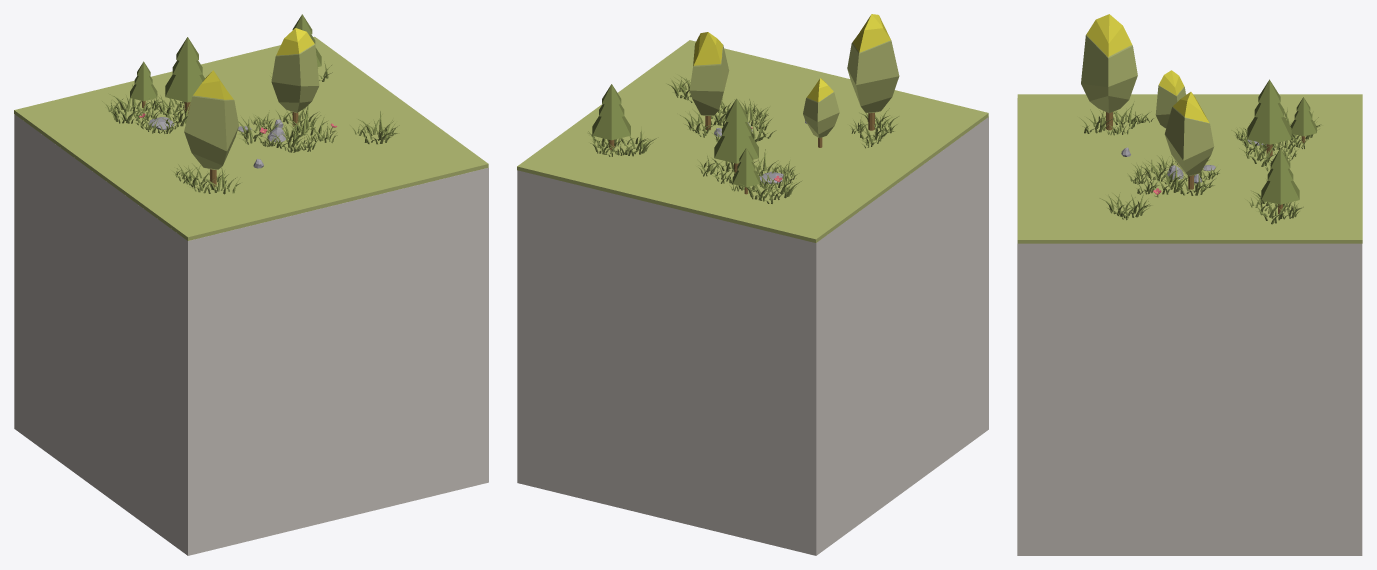
File: GrassLand4.fbx
3 renders of one model, left to right at view 1: azimuth 30°, elevation 25°; view 2: azimuth 150°, elevation 25°; view 3: azimuth 270°, elevation 25°, orthographic.
Parts seen in each view (by area): view 1: gras_4; view 2: gras_4; view 3: gras_4.
Boxes of the visible parts, x1=… form: gras_4: x1=14, y1=14, x2=488, y2=555; gras_4: x1=517, y1=14, x2=988, y2=555; gras_4: x1=1017, y1=14, x2=1362, y2=555.
Size of the model in its own units: 12 by 16.56 by 12.02.
